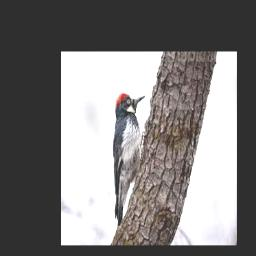Woodpecker: (113, 92, 146, 227)
